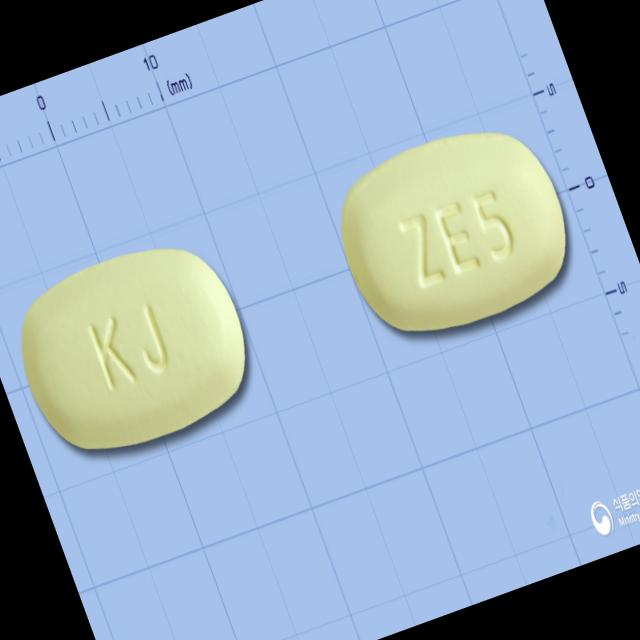Jecla: (318, 105, 590, 357), (0, 222, 270, 475)
